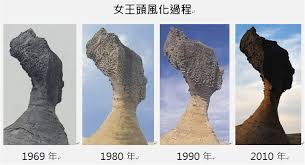yehliu: (164, 25, 228, 94), (239, 27, 300, 94)
